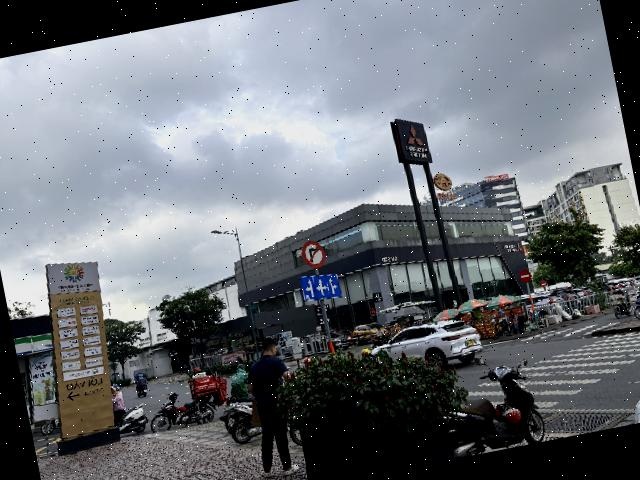cam-di-nguoc-chieu: (518, 268, 532, 284)
cam-re-trai: (300, 238, 326, 270)
